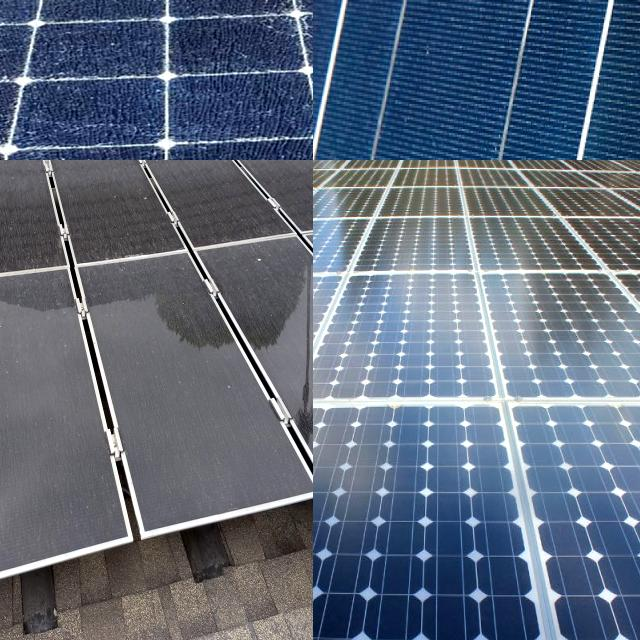crack: (313, 376, 632, 640), (313, 0, 640, 160), (313, 245, 527, 428), (493, 380, 640, 640), (474, 252, 640, 457), (313, 398, 431, 640), (313, 268, 451, 432)
dust: (0, 336, 100, 550), (113, 339, 234, 504), (0, 160, 161, 259), (184, 215, 313, 291), (82, 264, 200, 330), (191, 160, 313, 216), (277, 321, 313, 464), (0, 162, 40, 282), (0, 279, 70, 329)
